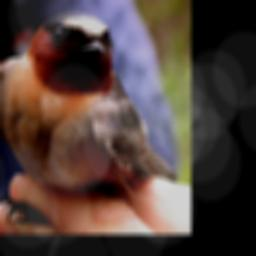Swallow: (0, 12, 176, 226)
